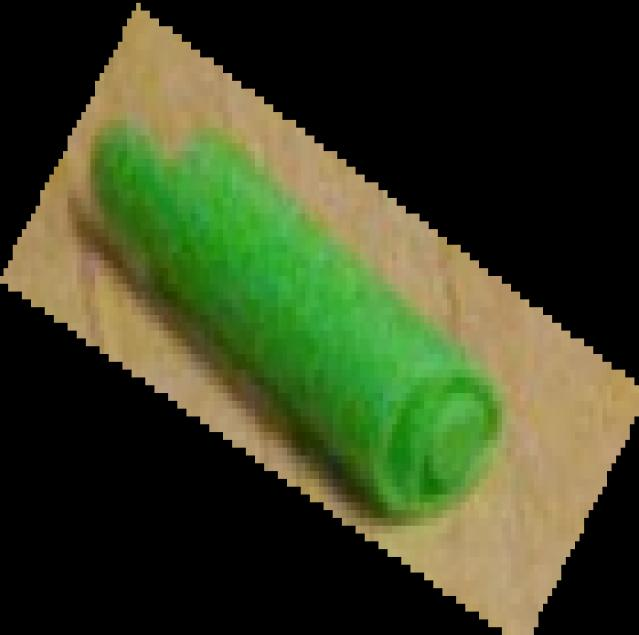green: (0, 0, 639, 635)
